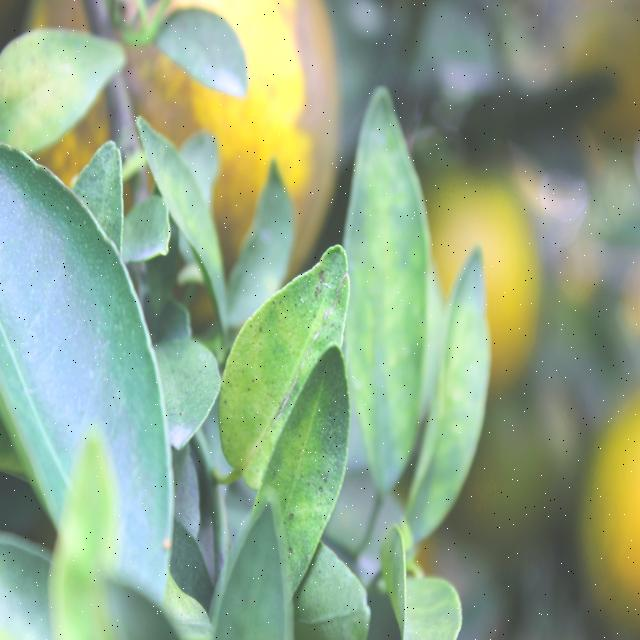blackspot: (223, 258, 352, 460), (266, 372, 348, 567)
